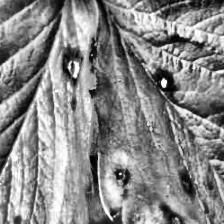Leaf Spot: (89, 0, 224, 224), (0, 0, 97, 224)
